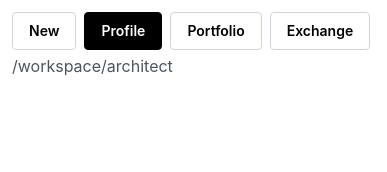
Test: Design New opens organisation profile setup, not project setup
Click the button "New": (44, 31) [12,12,76,50]
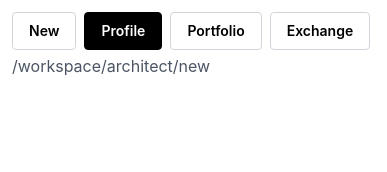
Expected: the text with test id "current-path" reads "/workspace/architect/new", [12,56,210,76]
